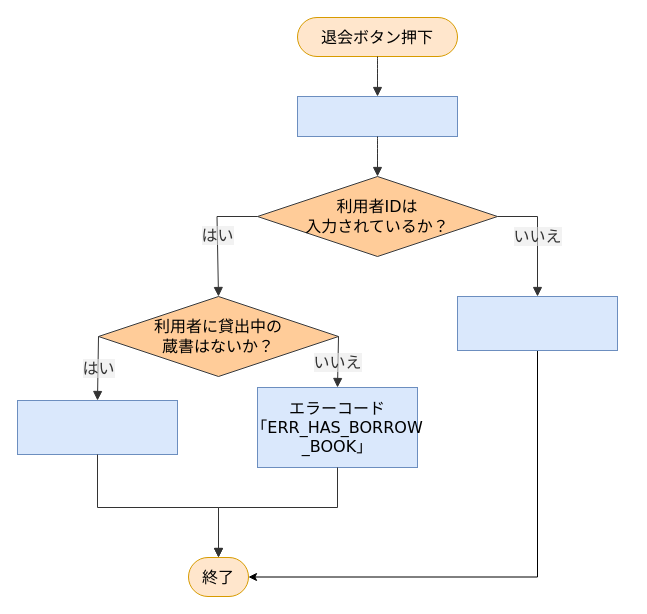
Some shapes in this 647 by 614 pixel diagram are drawn without their labels. The centre of each missing label's shape, as x and y in pixels:
エラーコード「ERR_NON_USER_ID」: the point at 537,323
利用者IDを確認: the point at 377,116
利用者の情報をデータベースから削除: the point at 97,427
